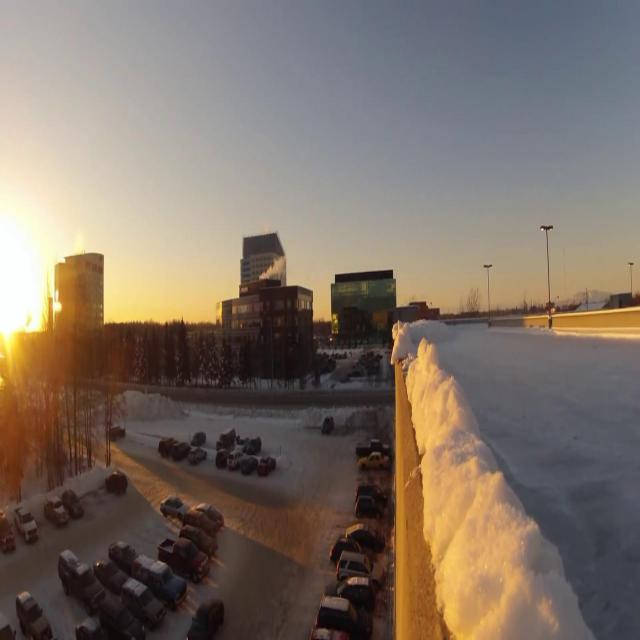Fire: (256, 257, 286, 282)
